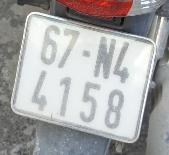1: (58, 75, 73, 120)
4: (29, 66, 50, 113), (115, 40, 130, 83)
5: (78, 81, 102, 126)
6: (39, 25, 60, 64)
7: (59, 25, 81, 69)
8: (105, 88, 126, 131)
N: (91, 33, 114, 79)
